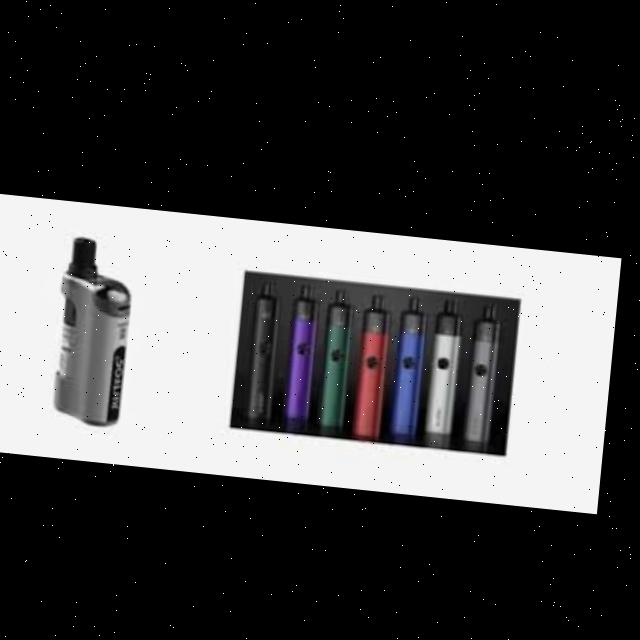vape: (58, 233, 141, 425), (249, 273, 294, 422), (357, 287, 401, 435), (431, 287, 473, 433), (398, 287, 439, 433), (324, 281, 365, 425), (288, 275, 330, 415), (471, 291, 509, 437)
